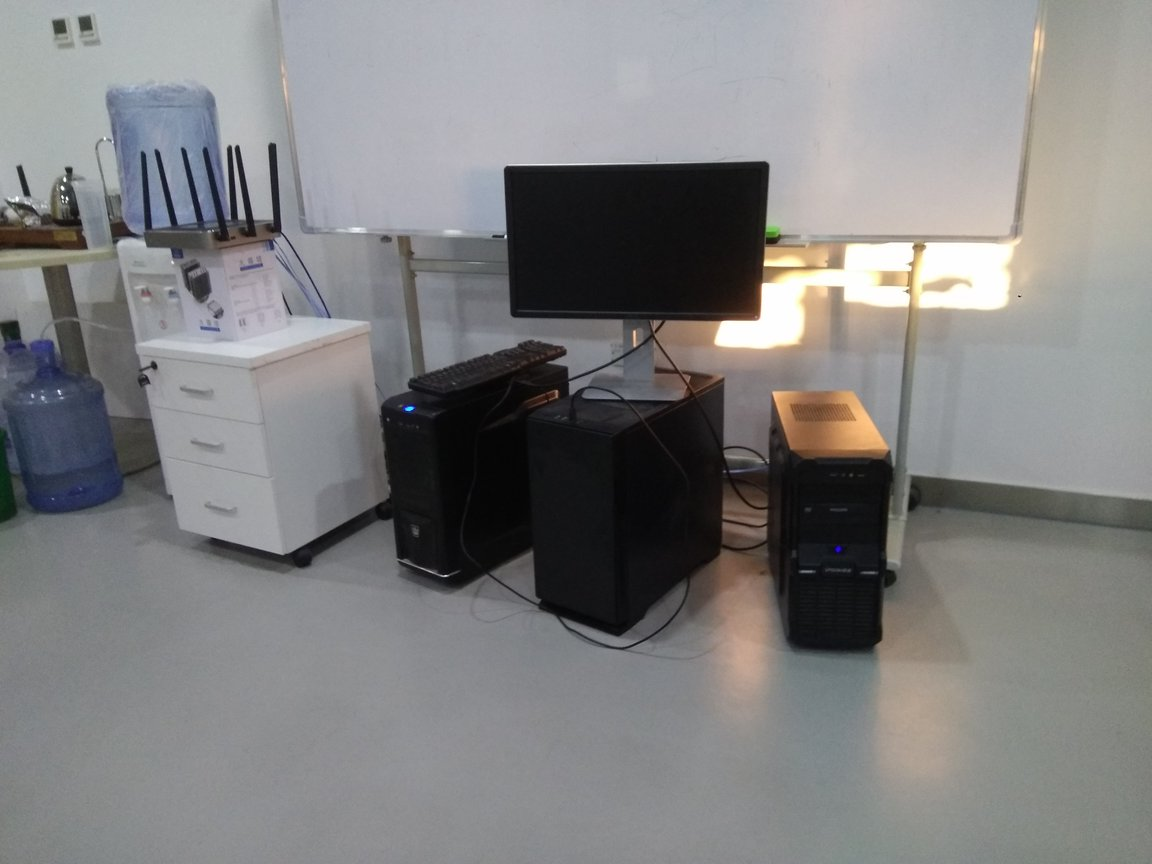computer: (531, 362, 736, 637), (368, 355, 568, 591), (759, 388, 901, 653)
drawer chest: (132, 313, 394, 585)
monitor: (488, 152, 781, 403)
scuttlebutt: (94, 76, 247, 247), (7, 334, 140, 521), (1, 311, 84, 488)
water dispenser: (112, 228, 281, 525)
